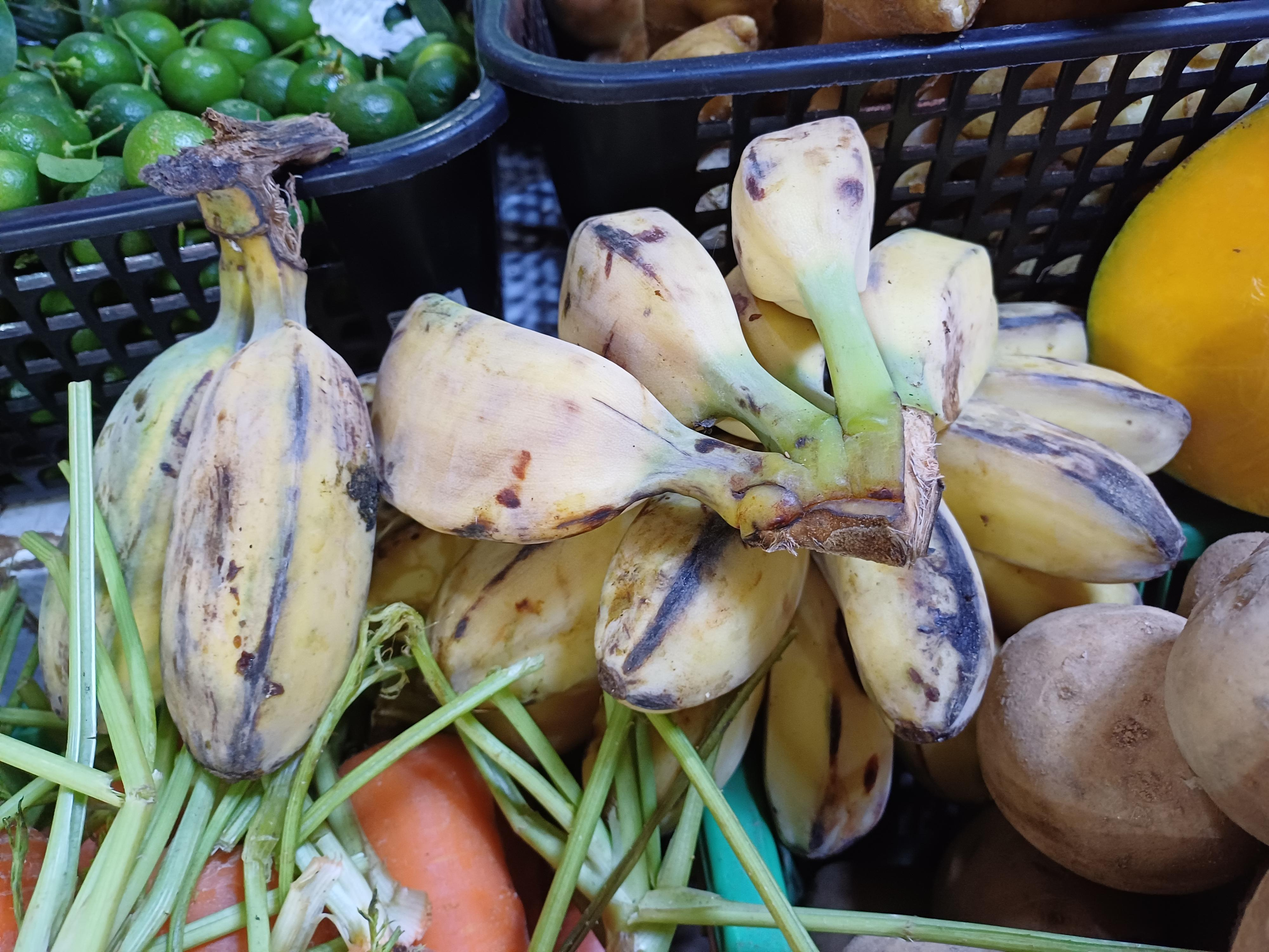ripe: (371, 304, 1193, 863), (367, 117, 1001, 546)
underripe: (94, 326, 380, 782)
